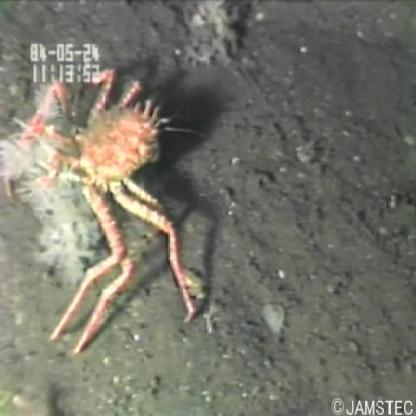Bio: (1, 60, 204, 363)
